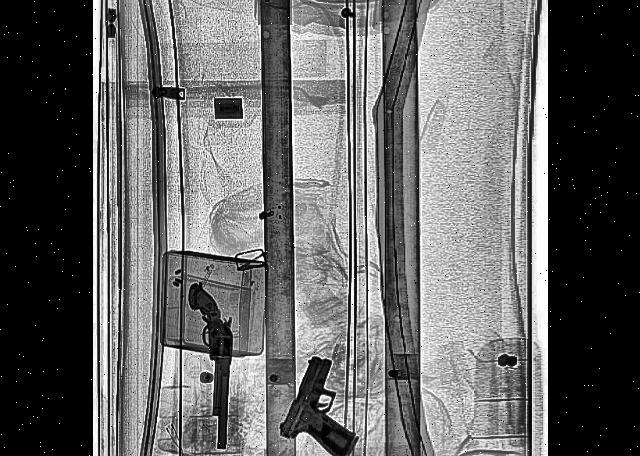Gun: (278, 345, 371, 456), (180, 283, 238, 452)
